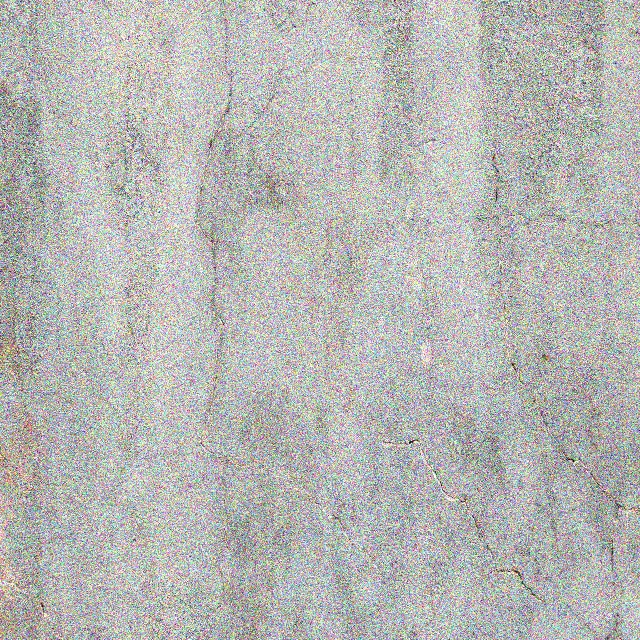SurfaceCrack: (157, 0, 290, 639)
